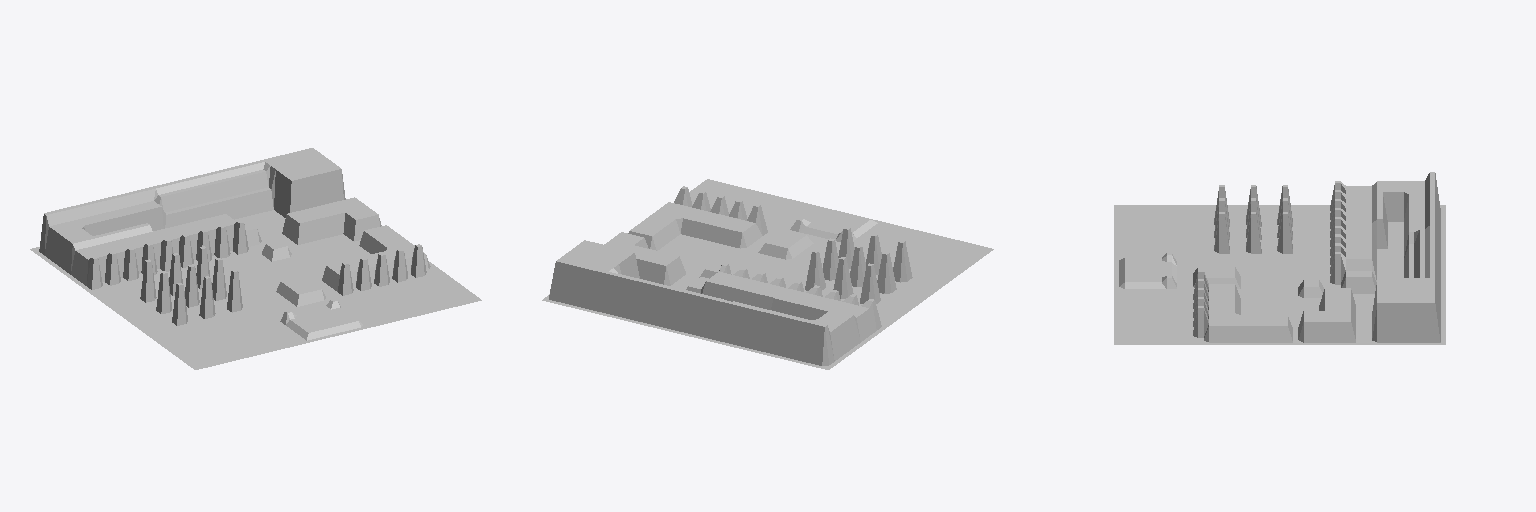
The model's file is base_cliffs.obj.
3 renders of one model, left to right at view 1: azimuth 30°, elevation 25°; view 2: azimuth 150°, elevation 25°; view 3: azimuth 270°, elevation 25°, orthographic.
Visible parts, largest first — view 1: Height_Map; view 2: Height_Map; view 3: Height_Map.
Part boxes in pixels (left/top/right/bottom): Height_Map: left=30, top=148, right=481, bottom=369; Height_Map: left=542, top=179, right=993, bottom=369; Height_Map: left=1114, top=172, right=1445, bottom=344.
Size of the model in its own units: 256 by 31.88 by 256.